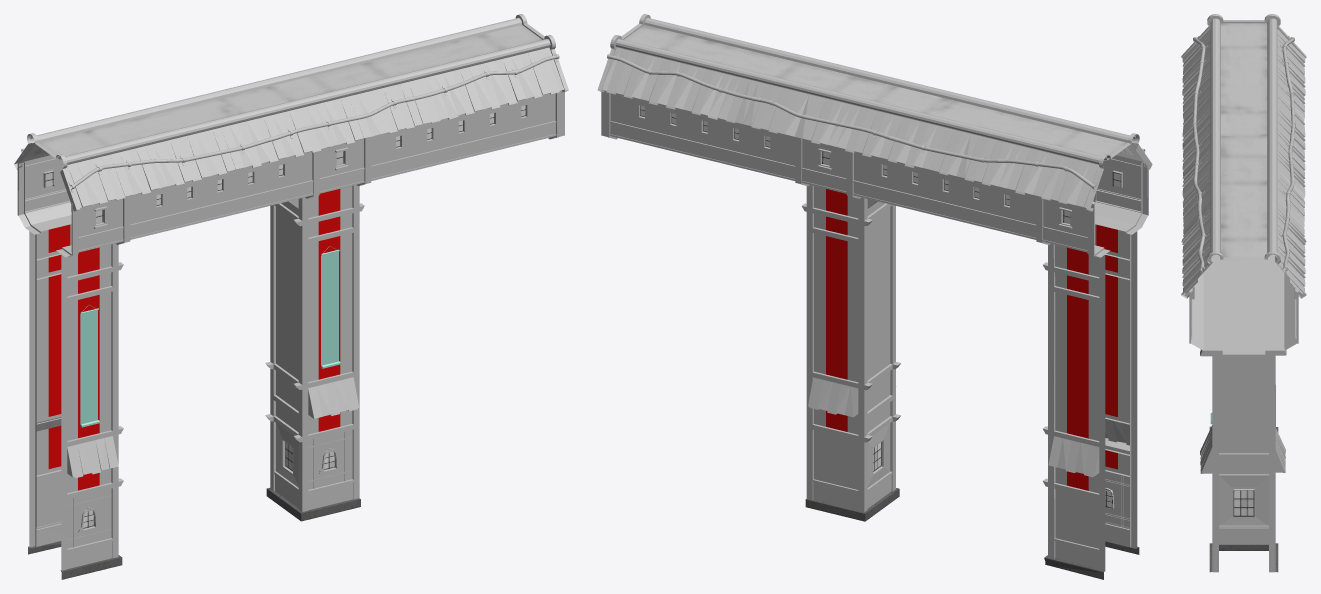
Rendered from SM_ENV_KNVLLG_gate_A.mo.fbx.
The picture shows the model from 3 angles, left to right: view 1: azimuth 30°, elevation 25°; view 2: azimuth 150°, elevation 25°; view 3: azimuth 270°, elevation 25°; orthographic projection.
Parts seen in each view (by area): view 1: SM_ENV_KNVLLG_gate_A.mo; view 2: SM_ENV_KNVLLG_gate_A.mo; view 3: SM_ENV_KNVLLG_gate_A.mo.
Boxes of the visible parts, x1=… form: SM_ENV_KNVLLG_gate_A.mo: x1=14, y1=14, x2=568, y2=579; SM_ENV_KNVLLG_gate_A.mo: x1=597, y1=14, x2=1152, y2=579; SM_ENV_KNVLLG_gate_A.mo: x1=1181, y1=14, x2=1306, y2=572.
Bounding box in the file's own units: 33.07 × 27.03 × 7.29.
